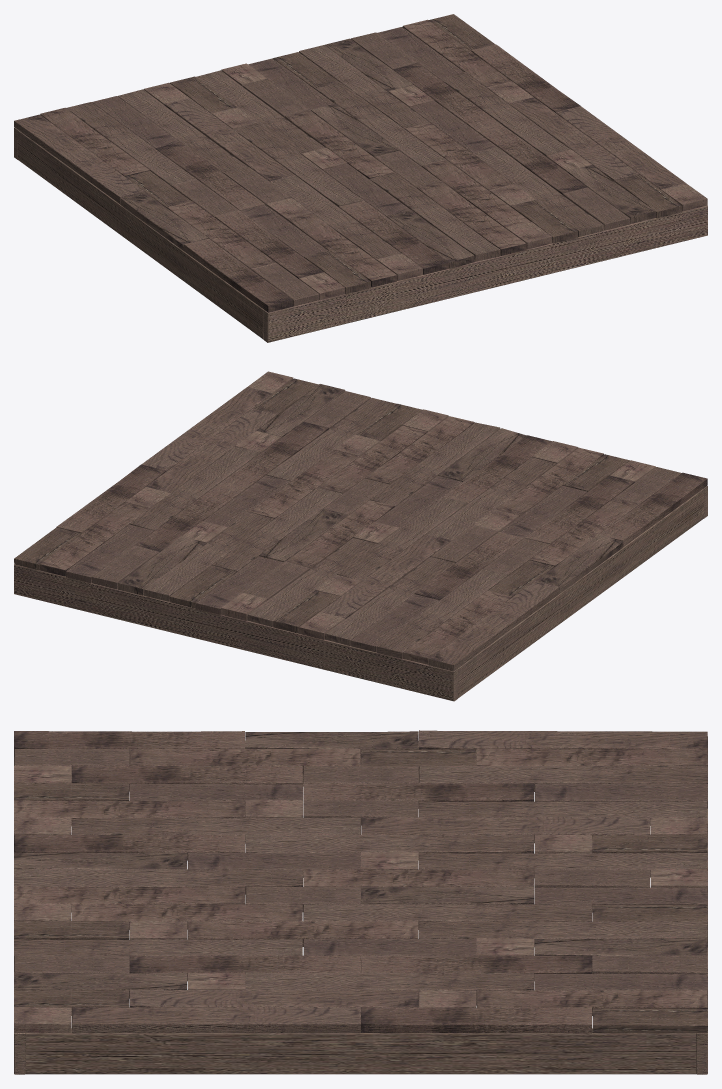
The model's file is WoodGround_2.fbx.
The picture shows the model from 3 angles, top to bottom: view 1: azimuth 30°, elevation 25°; view 2: azimuth 150°, elevation 25°; view 3: azimuth 270°, elevation 25°; orthographic projection. The views are drawn at different scales.
Visible parts, largest first — view 1: 3D_WoodGround2.mo; view 2: 3D_WoodGround2.mo; view 3: 3D_WoodGround2.mo.
Part boxes in pixels (bbox=[...]): 3D_WoodGround2.mo: bbox=[14, 14, 707, 342]; 3D_WoodGround2.mo: bbox=[14, 371, 707, 701]; 3D_WoodGround2.mo: bbox=[14, 730, 707, 1074].
Size of the model in its own units: 500 by 40.65 by 500.
1 material, 1 textured.
